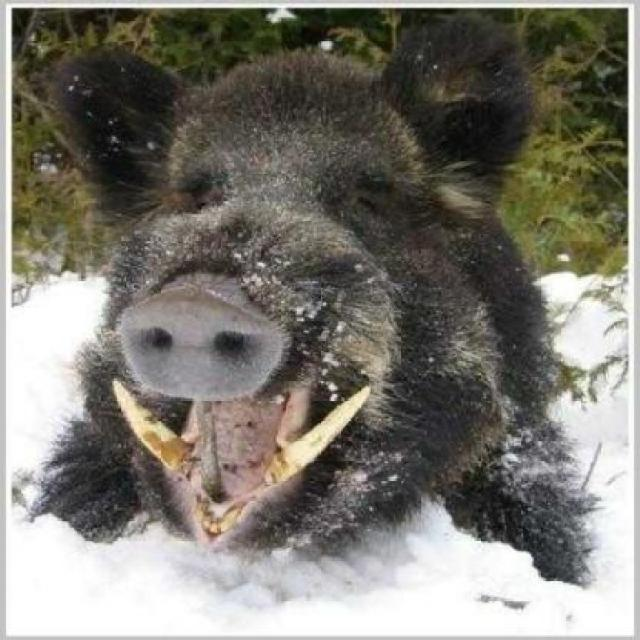pig: (118, 21, 628, 582)
